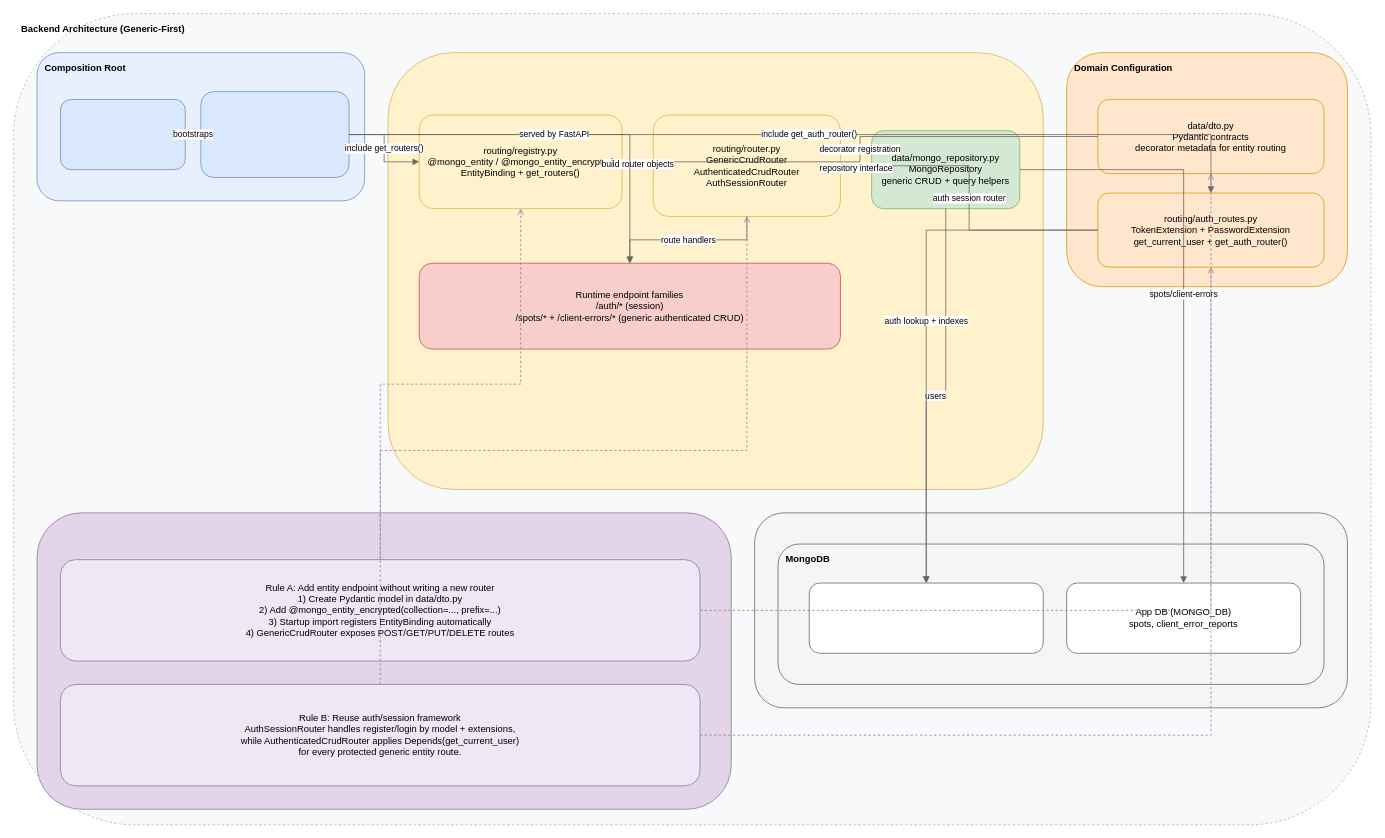
This 1385x838 diagram has some shape labels left out. The shapes that lost their labels are listed below. From the top down, each one's box as (x1, y1, x2, y2) in pixels, then its label:
(60, 99, 185, 170): main.py create_app()
(200, 91, 349, 177): routing/routing.py FastAPI assembly + CORS include dynamic and auth routers
(387, 52, 1043, 489): Generic Routing Framework
(808, 582, 1043, 653): Auth DB (MONGO_AUTH_DB) users
(754, 512, 1347, 708): Infrastructure
(36, 512, 731, 809): Generic Extension Rules
